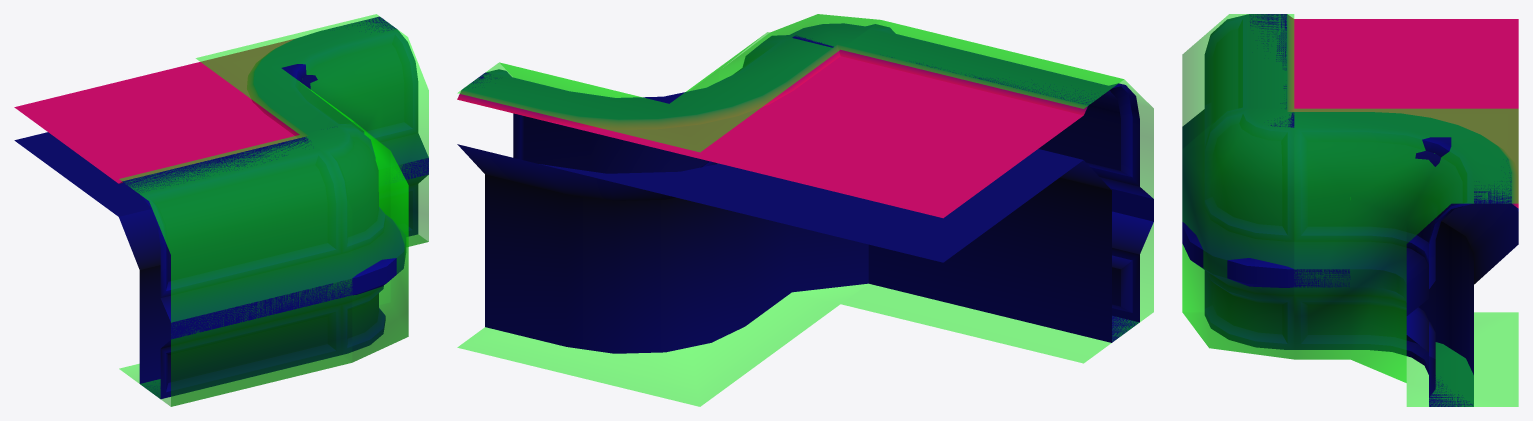
Rendered from AS_platform_girder.fbx.
The picture shows the model from 3 angles, left to right: view 1: azimuth 30°, elevation 25°; view 2: azimuth 150°, elevation 25°; view 3: azimuth 270°, elevation 25°; orthographic projection. The views are drawn at different scales.
Parts seen in each view (by area): view 1: platform_girder_side, platform_girder_sideCOL, platform_girder_cornerCOL, platform_girder_floor, platform_girder_corner, platform_girder_edgeCOL, platform_girder_edge; view 2: platform_girder_corner, platform_girder_floor, platform_girder_side, platform_girder_cornerCOL, platform_girder_sideCOL, platform_girder_edge, platform_girder_edgeCOL; view 3: platform_girder_corner, platform_girder_cornerCOL, platform_girder_edgeCOL, platform_girder_edge, platform_girder_floor, platform_girder_sideCOL, platform_girder_side.
Boxes of the visible parts, box(x1,y1,x2,y2) form: platform_girder_side: box(119, 137, 352, 399); platform_girder_sideCOL: box(119, 135, 352, 406); platform_girder_cornerCOL: box(196, 14, 428, 304); platform_girder_floor: box(14, 63, 297, 216); platform_girder_corner: box(196, 16, 428, 236); platform_girder_edgeCOL: box(300, 122, 408, 362); platform_girder_edge: box(302, 126, 405, 354); platform_girder_corner: box(457, 38, 840, 353); platform_girder_floor: box(700, 56, 1083, 262); platform_girder_side: box(841, 26, 1153, 342); platform_girder_cornerCOL: box(457, 32, 839, 406); platform_girder_sideCOL: box(841, 20, 1153, 363); platform_girder_edge: box(768, 23, 881, 292); platform_girder_edgeCOL: box(719, 14, 887, 303); platform_girder_corner: box(1294, 112, 1518, 406); platform_girder_cornerCOL: box(1294, 108, 1518, 406); platform_girder_edgeCOL: box(1182, 108, 1294, 359); platform_girder_edge: box(1182, 108, 1294, 349); platform_girder_floor: box(1294, 19, 1518, 113); platform_girder_sideCOL: box(1182, 14, 1294, 311); platform_girder_side: box(1182, 14, 1294, 221).
Size of the model in its own units: 200 by 100 by 150.
